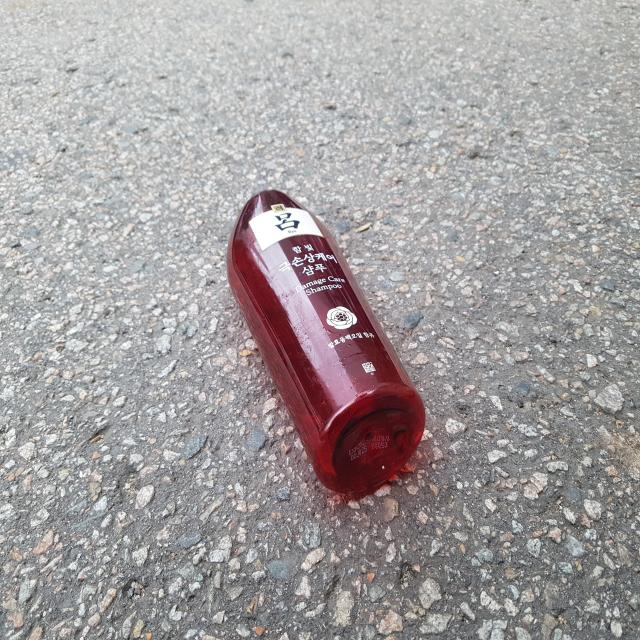bottle: (217, 178, 432, 504)
